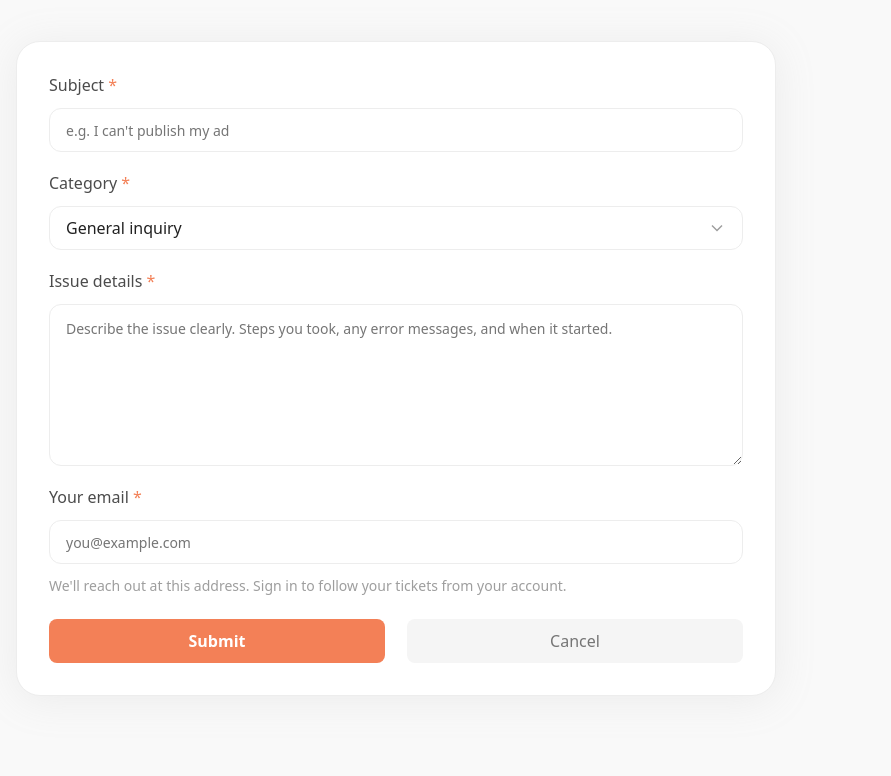
Test: NewTicketClient › announces each invalid field and sends nothing
(page scrolled)
Step 1. Click the button "Submit" → (217, 641), box [49,619,385,663]
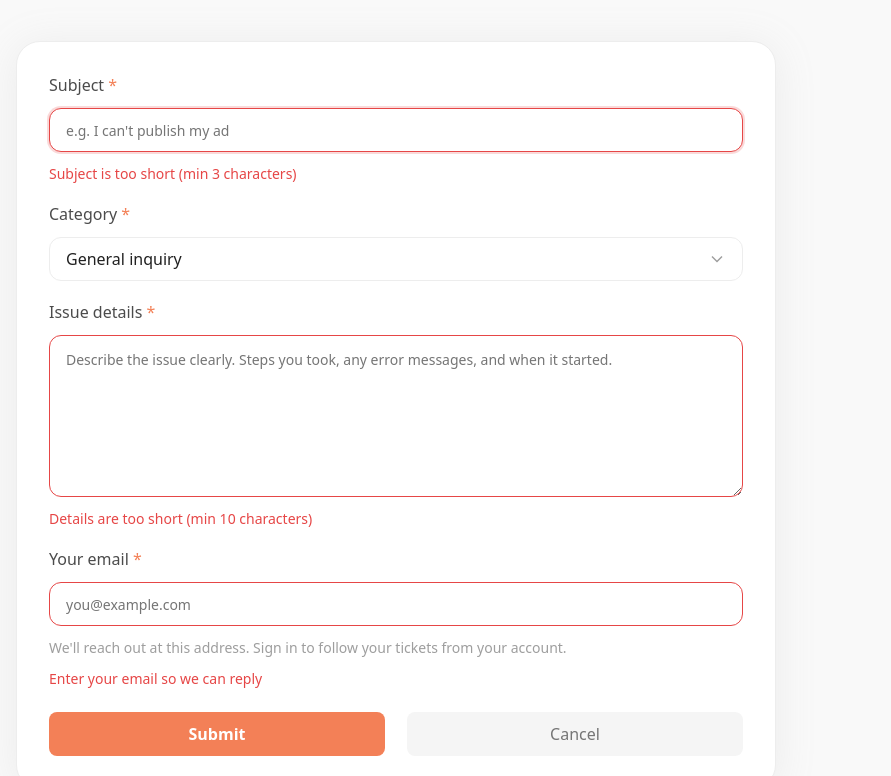
Expected: the messages read "Subject is too short (min 3 characters)", "Details are too short (min 10 characters)", "Enter your email so we can reply", in this order, [49,164,297,183]; [49,509,312,528]; [49,669,262,688]
